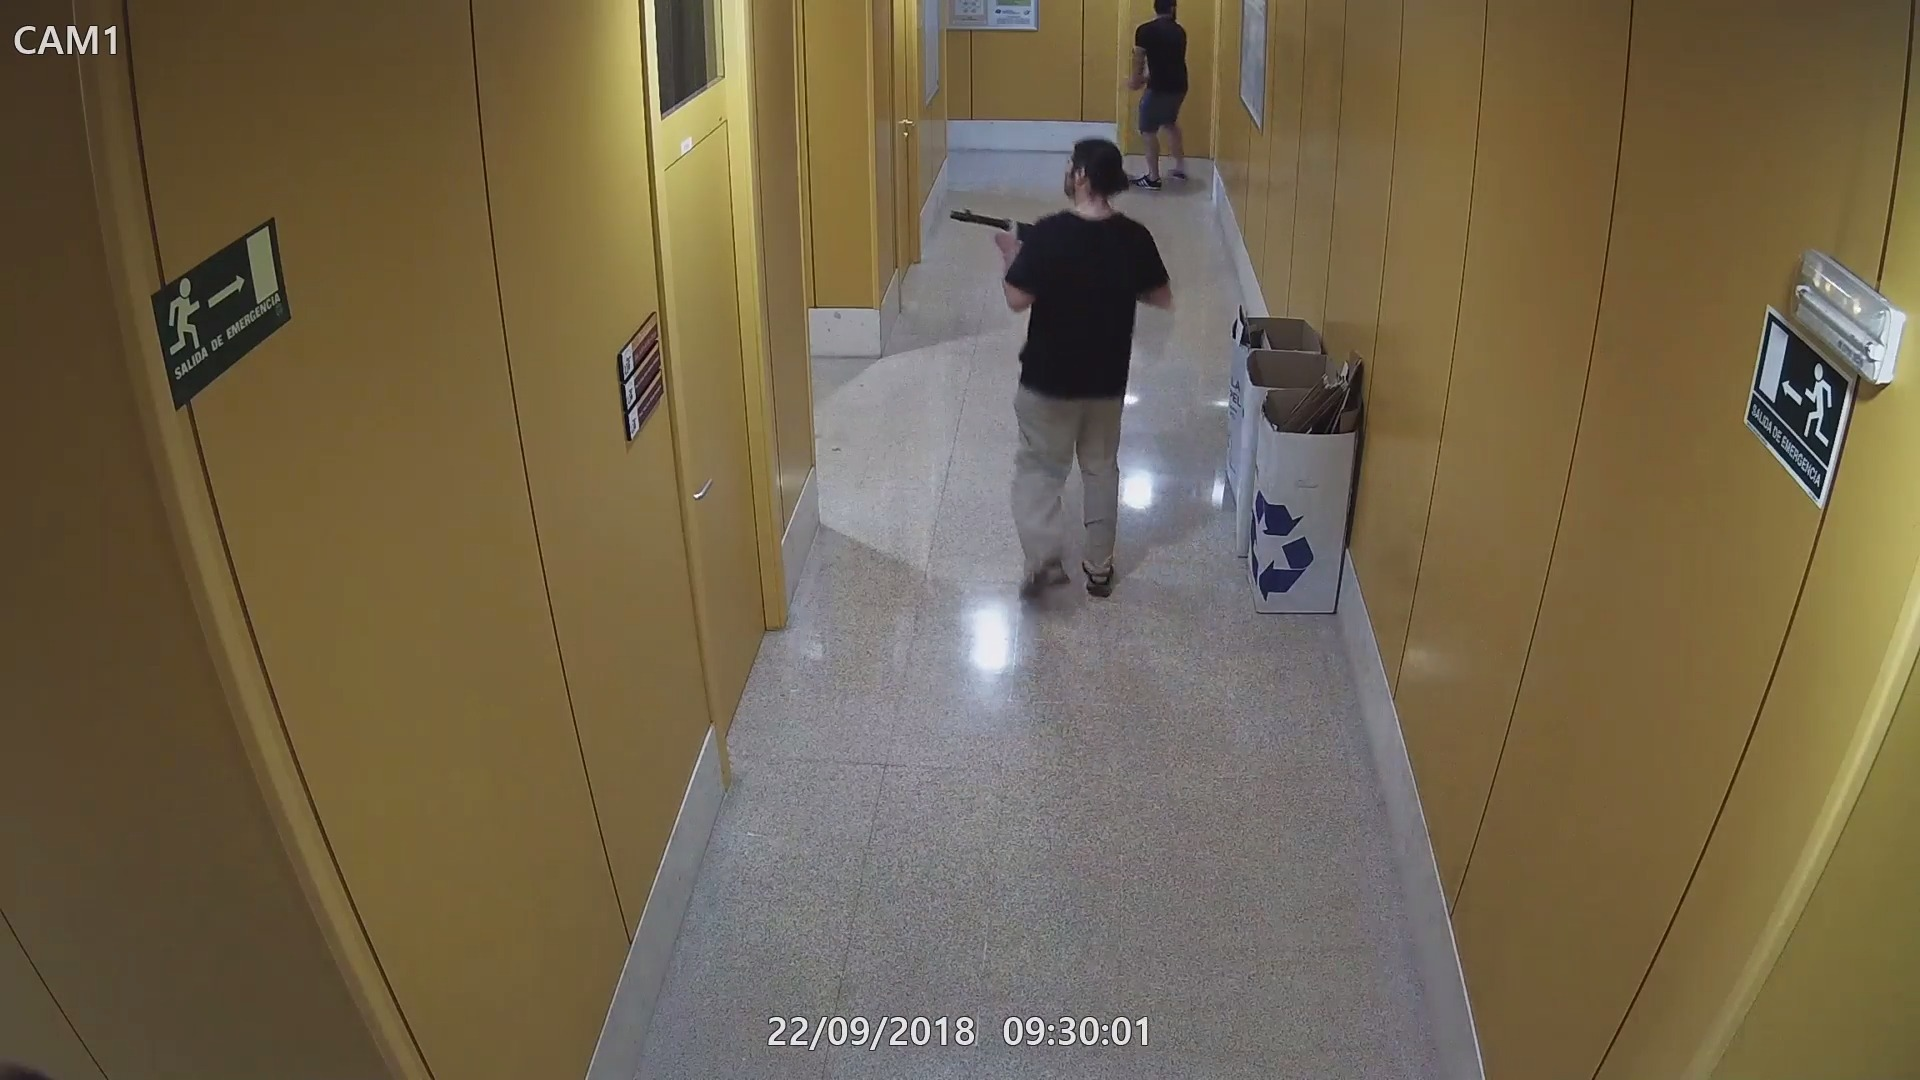Short_rifle: (944, 203, 1044, 249)
